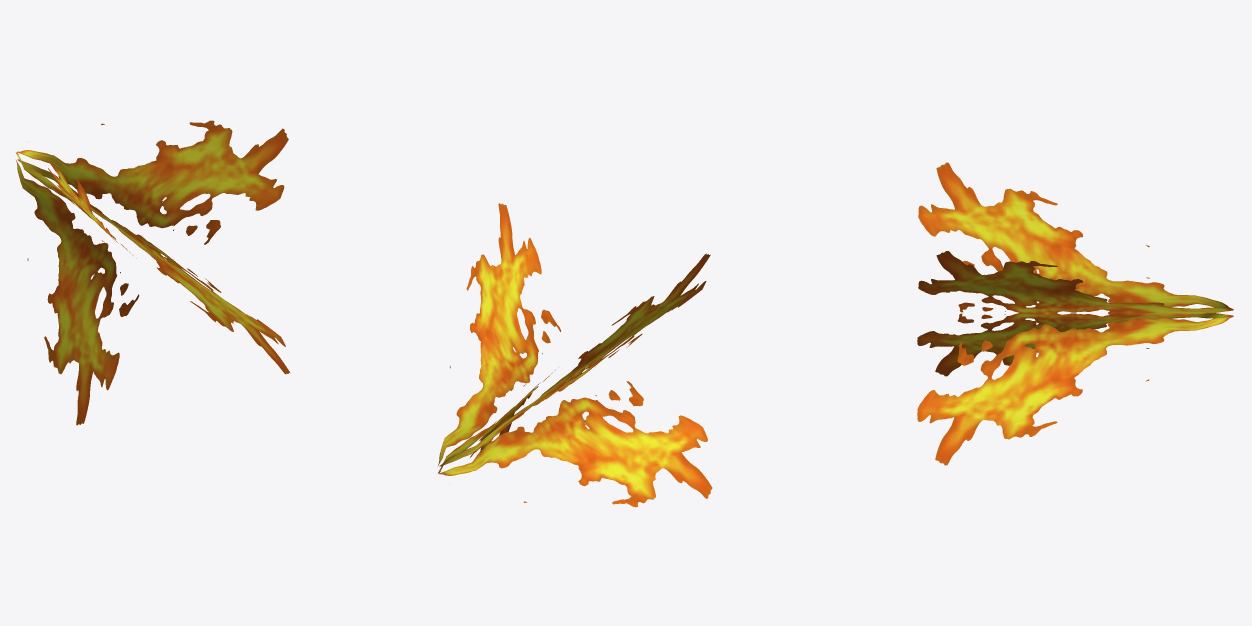
The model's file is FlameThrower01.FBX.
3 renders of one model, left to right at view 1: azimuth 30°, elevation 25°; view 2: azimuth 150°, elevation 25°; view 3: azimuth 270°, elevation 25°, orthographic. The views are drawn at different scales.
Parts seen in each view (by area): view 1: Sphere001; view 2: Sphere001; view 3: Sphere001.
Boxes of the visible parts, x1,y1,x2,y2 form: Sphere001: (16,120,289,425); Sphere001: (438,203,712,507); Sphere001: (917,162,1233,465).
Bounding box in the file's own units: 307 × 425 × 327.
